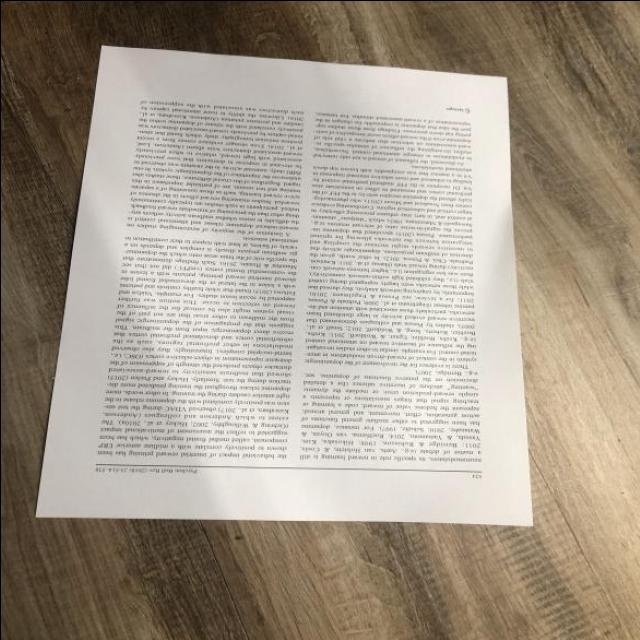kertas: (35, 44, 539, 524)
